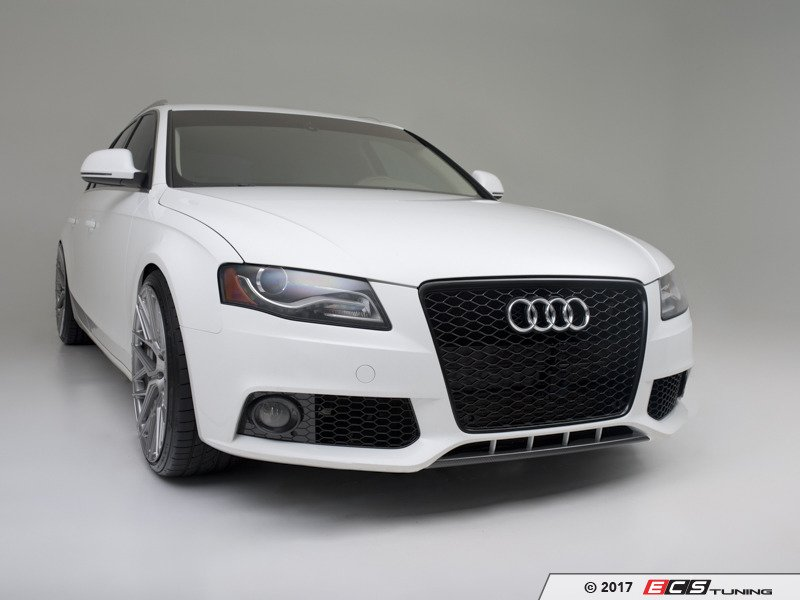audi: (491, 297, 599, 335)
